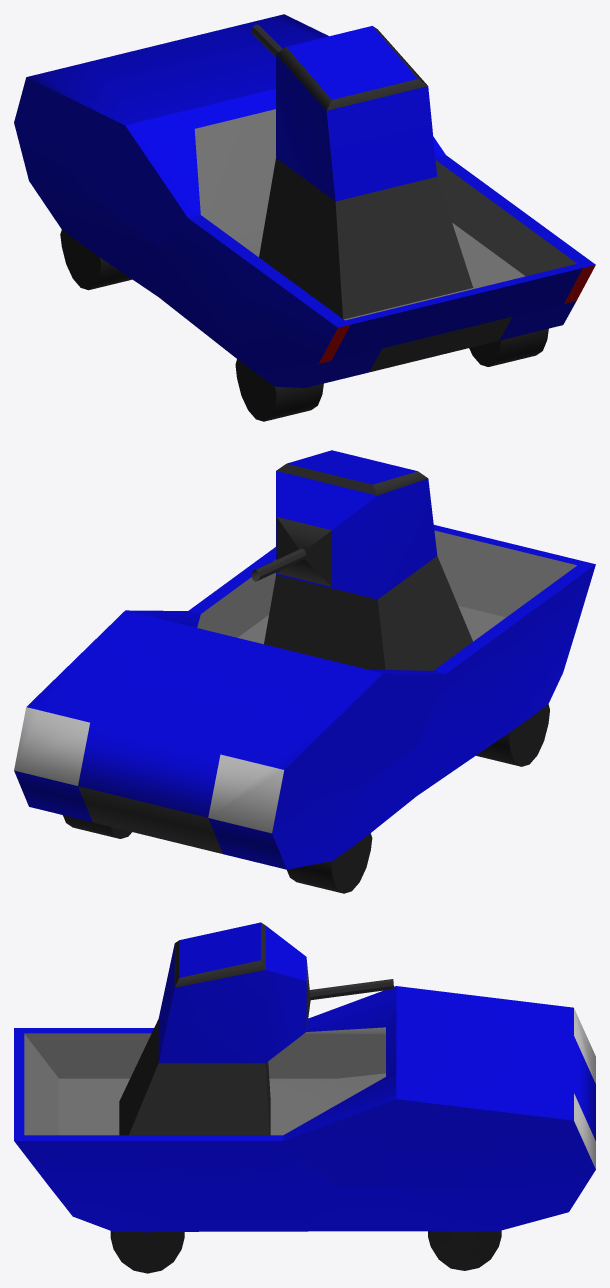
The model's file is WarLightBlue.fbx.
3 views of the same model, one above another, from view 1: azimuth 30°, elevation 25°; view 2: azimuth 150°, elevation 25°; view 3: azimuth 270°, elevation 25° (orthographic). The views are drawn at different scales.
Visible parts, largest first — view 1: pCylinder6; view 2: pCylinder6; view 3: pCylinder6.
Part boxes in pixels (left/top/right/bottom): pCylinder6: left=14, top=14, right=595, bottom=421; pCylinder6: left=14, top=450, right=595, bottom=893; pCylinder6: left=14, top=922, right=595, bottom=1273.
Size of the model in its own units: 2.1 by 2.23 by 4.31.
